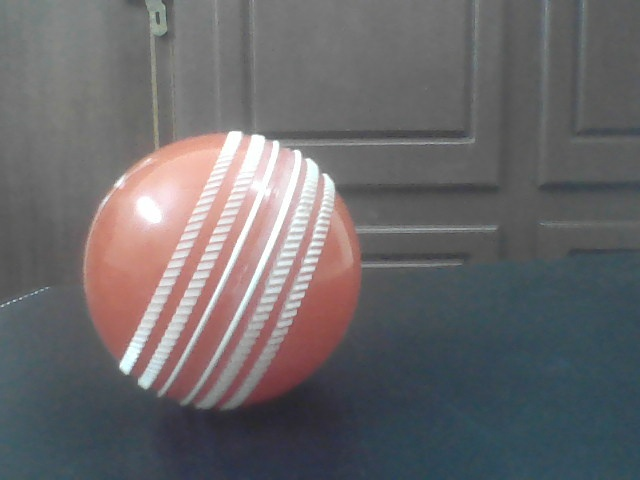cricket_ball: (80, 121, 369, 425)
